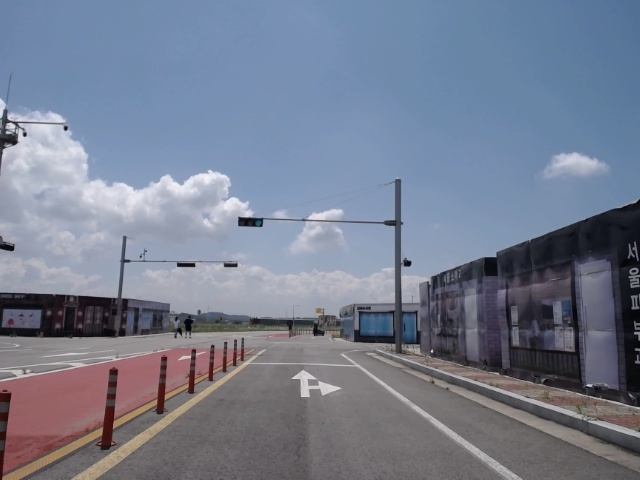green_3: (238, 217, 264, 227)
